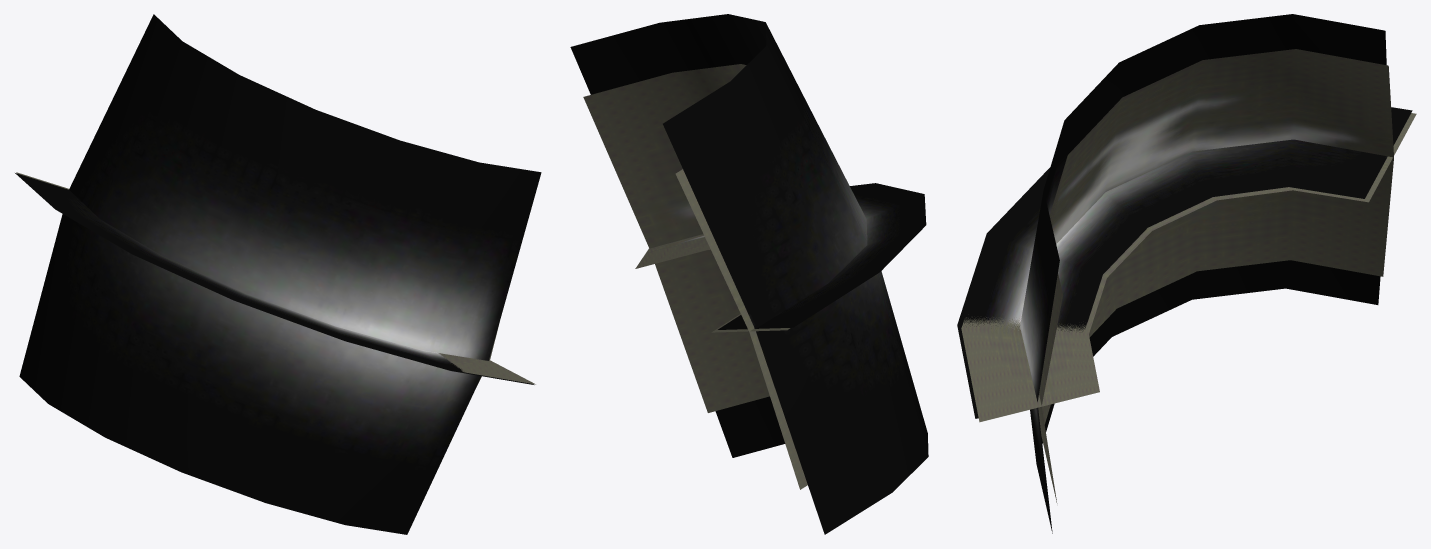
The model's file is Effect_3103attack #084209.fbx.
3 renders of one model, left to right at view 1: azimuth 30°, elevation 25°; view 2: azimuth 150°, elevation 25°; view 3: azimuth 270°, elevation 25°, orthographic. The views are drawn at different scales.
Visible parts, largest first — view 1: Effect_1001tattack02, Effect_1001tattack01; view 2: Effect_1001tattack02, Effect_1001tattack01; view 3: Effect_1001tattack01, Effect_1001tattack02.
Part boxes in pixels (x1,y1,x2,y2): Effect_1001tattack02: (15,14,541,534); Effect_1001tattack01: (16,172,535,385); Effect_1001tattack02: (570,14,928,534); Effect_1001tattack01: (583,64,807,489); Effect_1001tattack01: (961,49,1416,503); Effect_1001tattack02: (957,14,1412,533).
Bounding box in the file's own units: 3.05 × 3.3 × 2.97.
2 materials, 2 textured.
